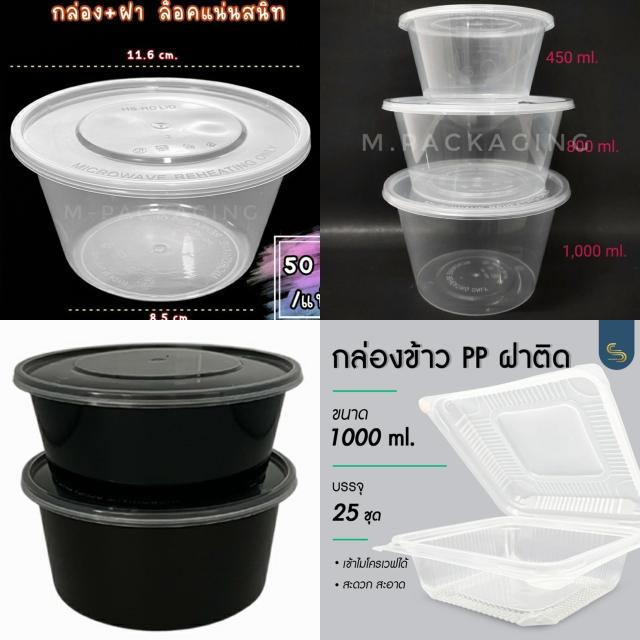Single-Use-Plastic: (375, 364, 640, 625), (11, 78, 310, 301), (21, 451, 296, 630), (14, 344, 302, 511), (382, 170, 570, 316), (382, 96, 574, 204), (400, 5, 554, 100)
